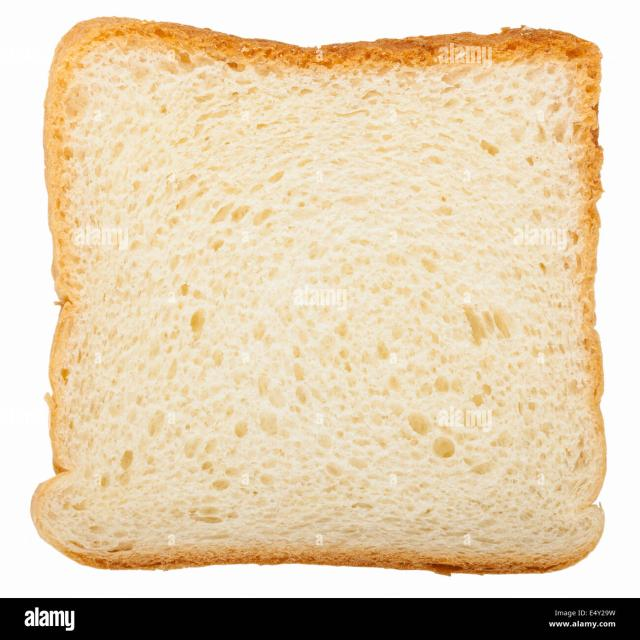Bread: (32, 19, 606, 574)
